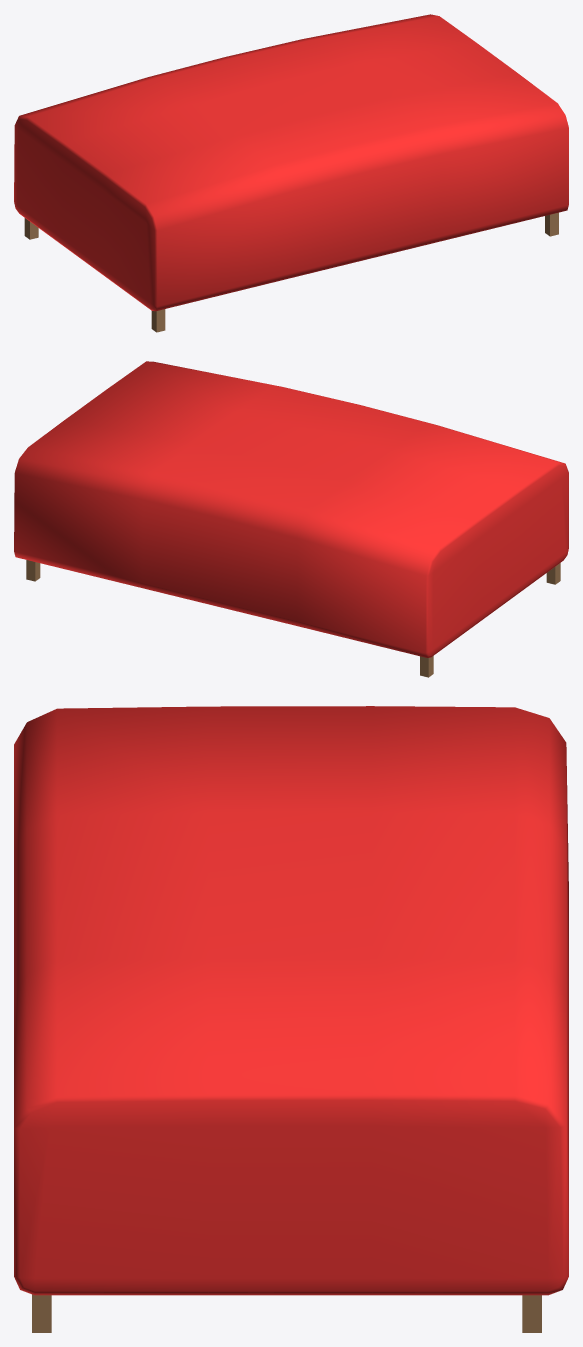
The model's file is pouf.FBX.
3 renders of one model, top to bottom at view 1: azimuth 30°, elevation 25°; view 2: azimuth 150°, elevation 25°; view 3: azimuth 270°, elevation 25°, orthographic. The views are drawn at different scales.
Visible parts, largest first — view 1: pouf; view 2: pouf; view 3: pouf.
Boxes of the visible parts, left/top/right/bottom form: pouf: left=14, top=14, right=568, bottom=332; pouf: left=14, top=361, right=568, bottom=677; pouf: left=14, top=706, right=568, bottom=1332.
Bounding box in the file's own units: 1.18 × 0.3656 × 0.7061.
